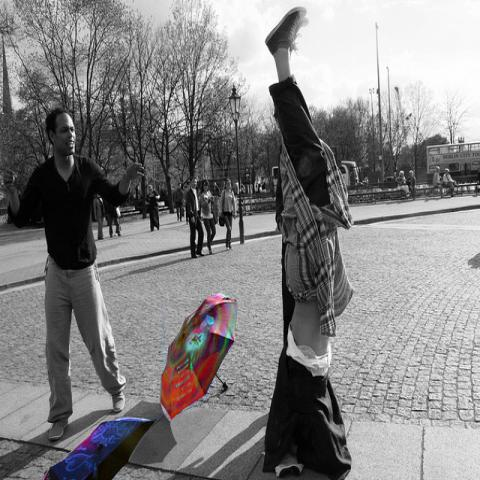bus: (426, 142, 480, 183)
car: (379, 176, 398, 188)
truck: (330, 146, 350, 190)
